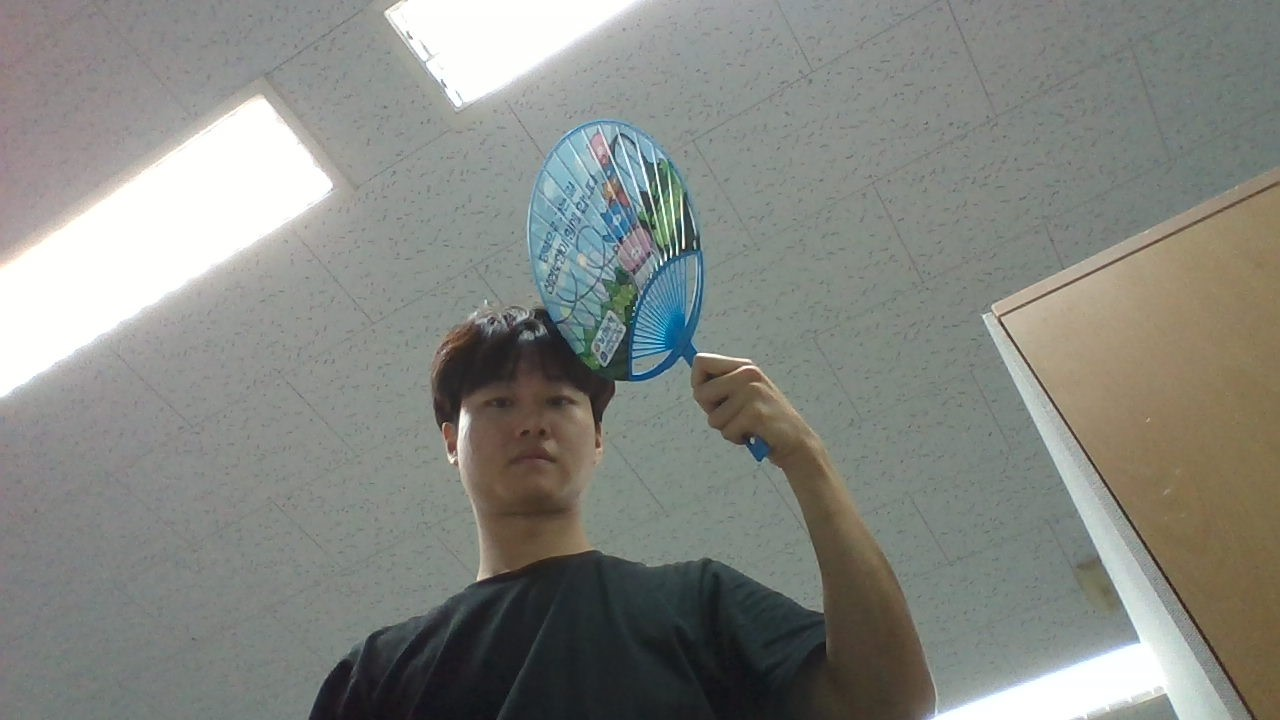Non-Helmet: (420, 285, 628, 529)
